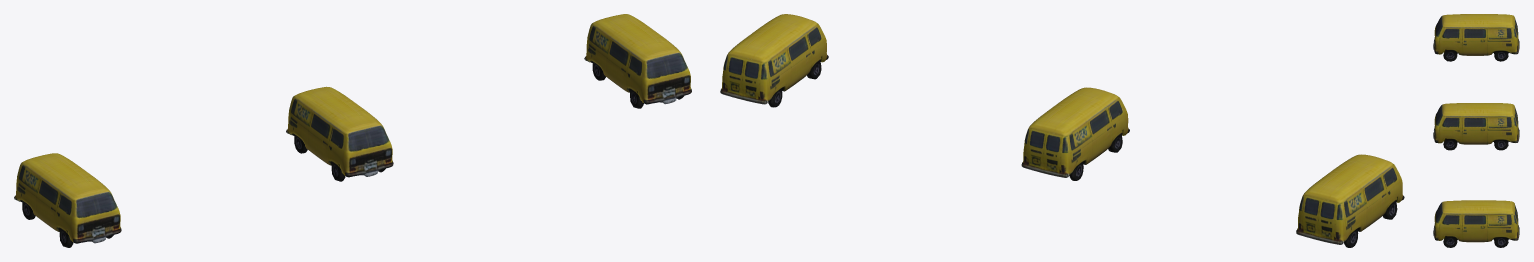
File: autosamarillos.obj
3 views of the same model, side by side, from view 1: azimuth 30°, elevation 25°; view 2: azimuth 150°, elevation 25°; view 3: azimuth 270°, elevation 25° (orthographic). The views are drawn at different scales.
Parts seen in each view (by area): view 1: autosamarillos; view 2: autosamarillos; view 3: autosamarillos.
Part boxes in pixels (bbox=[...]): autosamarillos: bbox=[14, 14, 691, 247]; autosamarillos: bbox=[720, 14, 1404, 247]; autosamarillos: bbox=[1433, 14, 1519, 247].
Bounding box in the file's own units: 30.92 × 2.66 × 5.59.
Materials: 3 (3 with a texture image).
